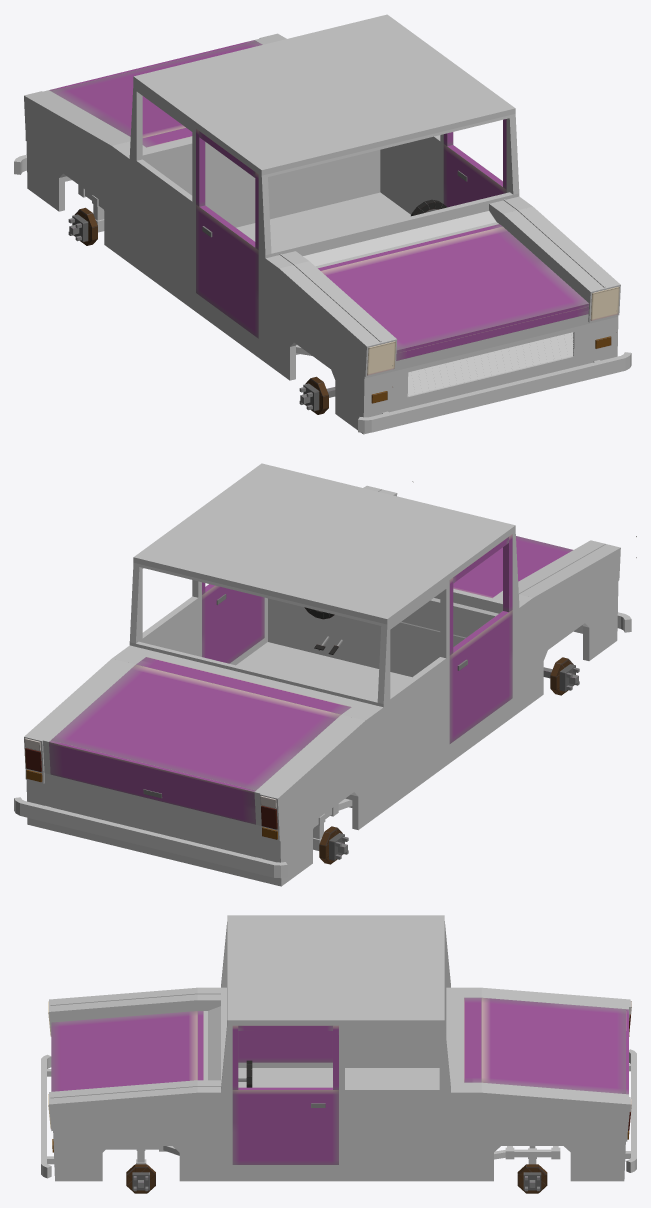
File: trombone.obj
3 views of the same model, one above another, from view 1: azimuth 30°, elevation 25°; view 2: azimuth 150°, elevation 25°; view 3: azimuth 270°, elevation 25° (orthographic). The views are drawn at different scales.
Visible parts, largest first — view 1: cube, hood, rightdoor, trunk, leftdoor, &RunningLight_fbf6df_fffff_010, rearrighthub, frontrighthub; view 2: cube, trunk, rightdoor, leftdoor, hood, frontrighthub, rearrighthub, &BrakeLight_c42614_fffff_010; view 3: cube, trunk, hood, leftdoor, rightdoor, rearlefthub, frontlefthub.
Part boxes in pixels (box(x1,y1,x2,y2)): cube: box(14, 14, 631, 434); hood: box(318, 224, 589, 360); rightdoor: box(196, 129, 258, 338); trunk: box(49, 40, 262, 147); leftdoor: box(443, 119, 506, 207); &RunningLight_fbf6df_fffff_010: box(367, 286, 619, 375); rearrighthub: box(68, 207, 97, 245); frontrighthub: box(299, 376, 328, 414); cube: box(14, 463, 631, 886); trunk: box(49, 657, 351, 824); rightdoor: box(449, 534, 512, 743); leftdoor: box(202, 582, 264, 663); hood: box(453, 536, 572, 598); frontrighthub: box(550, 657, 579, 695); rearrighthub: box(319, 826, 348, 864); &BrakeLight_c42614_fffff_010: box(25, 748, 277, 829); cube: box(41, 915, 636, 1181); trunk: box(464, 997, 628, 1094); hood: box(51, 1011, 203, 1091); leftdoor: box(232, 1025, 338, 1164); rightdoor: box(238, 1031, 332, 1062); rearlefthub: box(517, 1164, 547, 1193); frontlefthub: box(126, 1164, 155, 1193).
Size of the model in its own units: 2.84 by 2.03 by 6.58.
